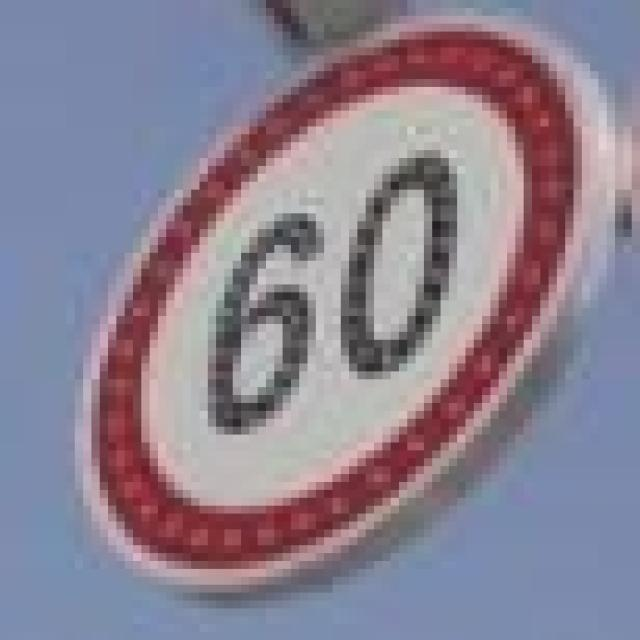traffic_sign: (66, 15, 607, 592)
